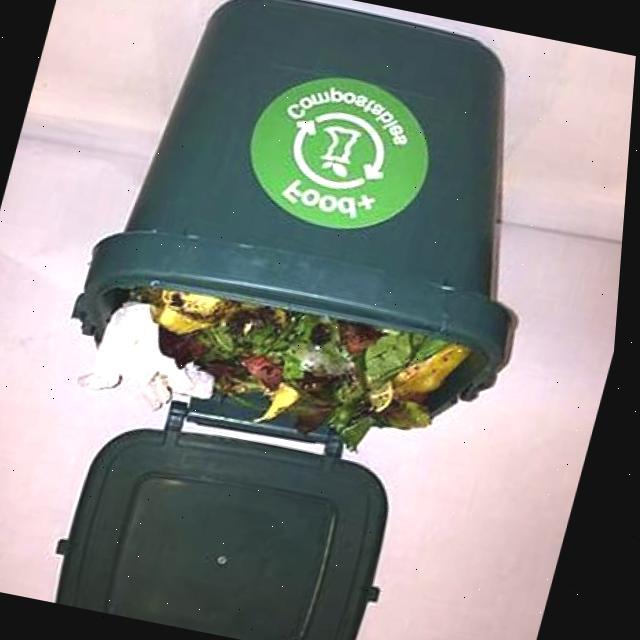Garbage: (88, 288, 475, 451)
